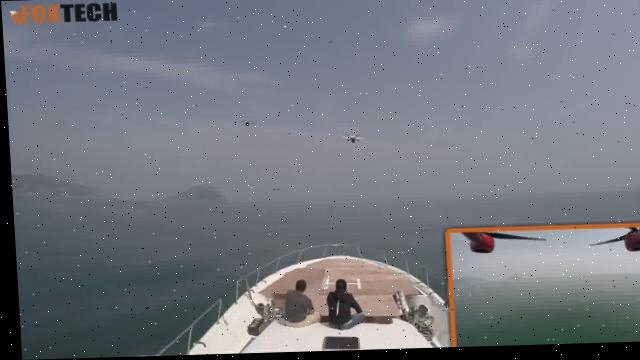drone: (332, 124, 365, 152)
